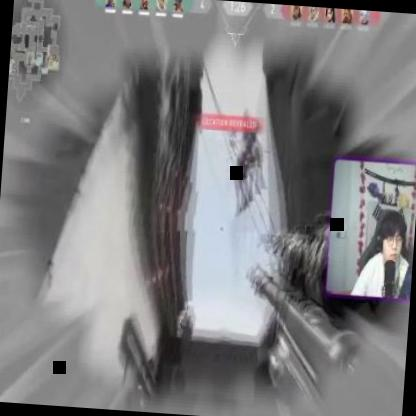enemy: (230, 106, 272, 219)
enemy_head: (240, 110, 254, 136)
